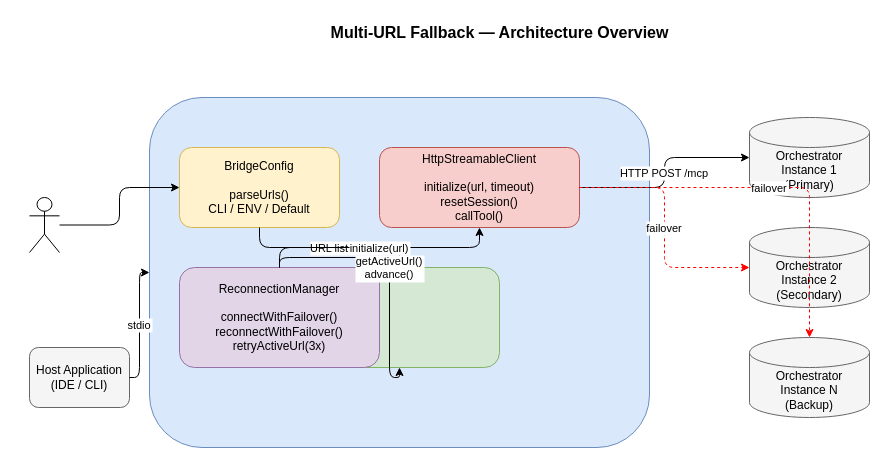
Some shapes in this 887 by 465 pixel diagram are drawn without their labels. The shapes that lost their labels are listed below. From the top down, each one's box as (x1, y1, x2, y2) in pixels, then its label:
(28, 196, 60, 252): Developer
(148, 96, 650, 448): Bridge Client
(298, 266, 500, 368): UrlManager urls[], activeUrl advance(), markFailed() getErrors(), hasNext()
